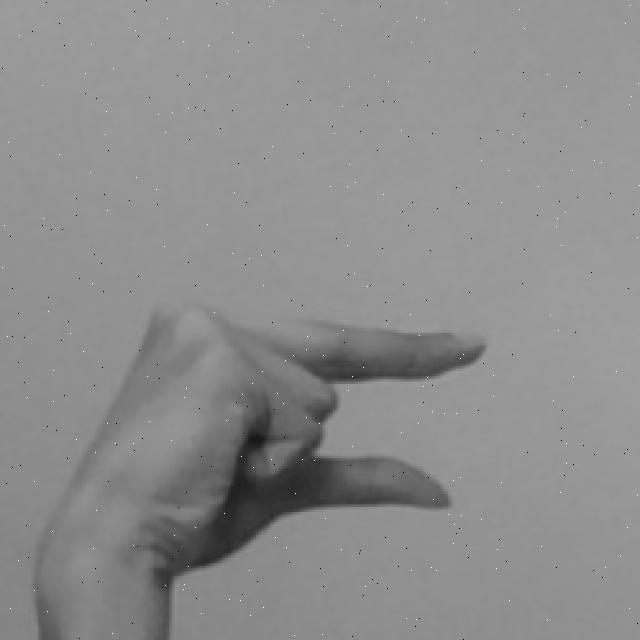G: (32, 294, 492, 640)
